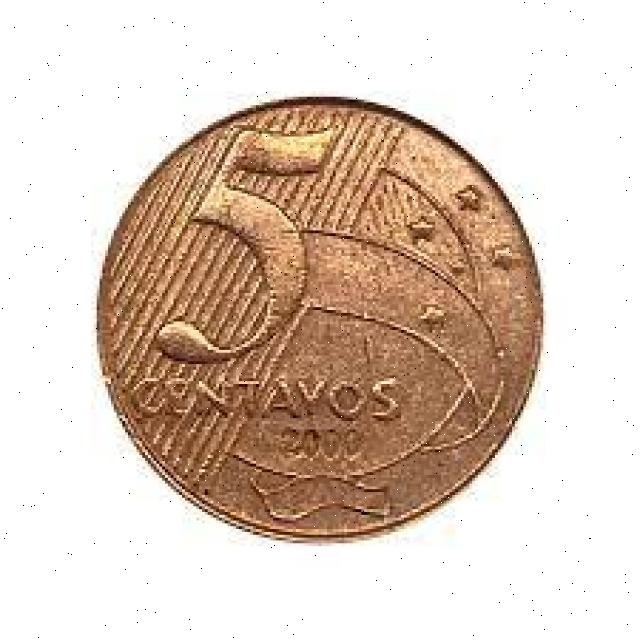5 cent: (103, 96, 544, 541)
